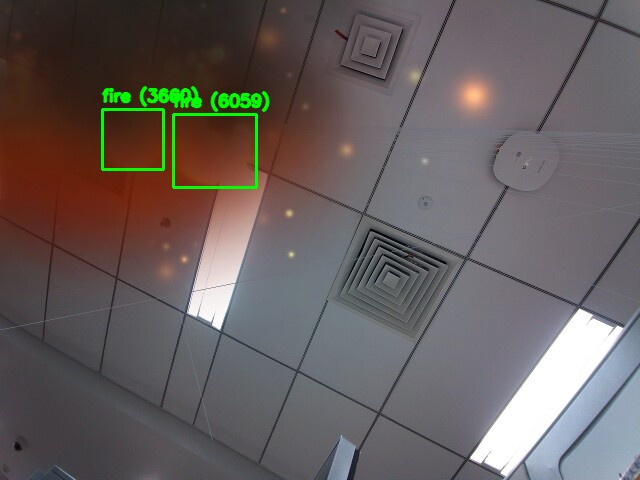fire: (173, 114, 256, 187), (102, 109, 163, 169)
